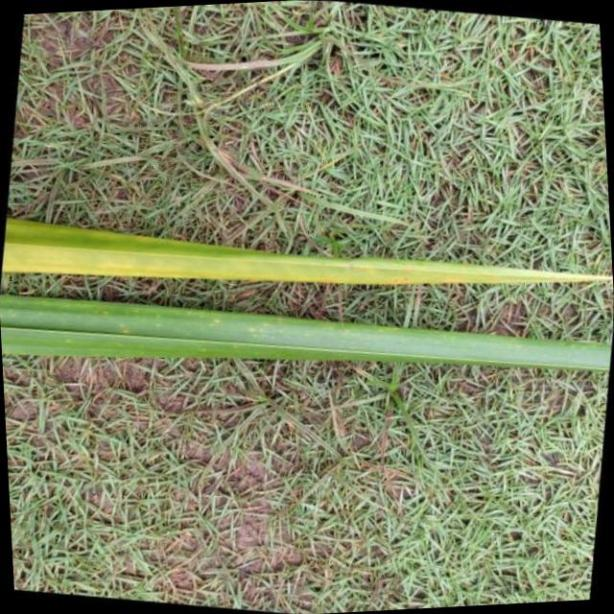nitrogen: (3, 286, 614, 370), (3, 209, 614, 283)
